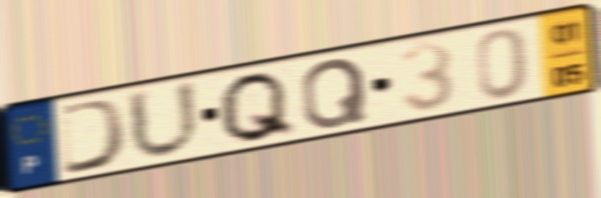0: (472, 24, 533, 103)
3: (399, 38, 456, 117)
D: (56, 95, 132, 178)
Q: (216, 68, 300, 146), (299, 55, 371, 133)
U: (123, 77, 205, 163)
